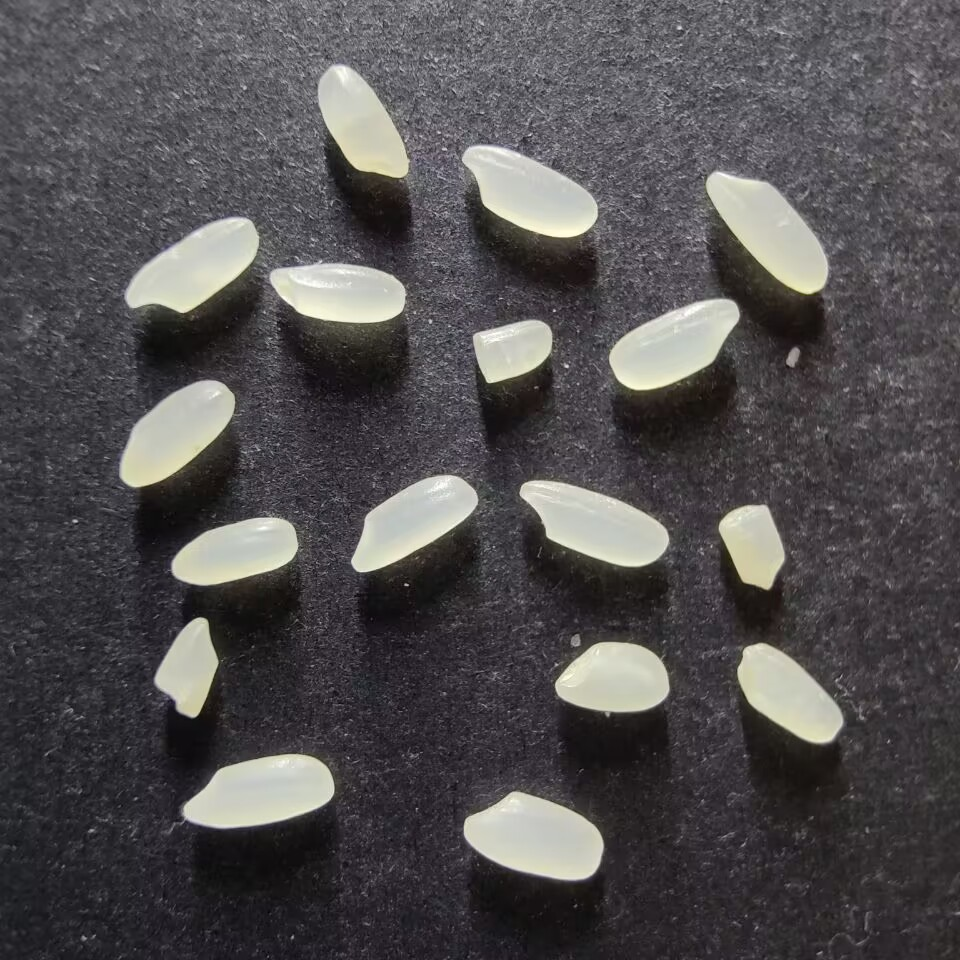broken: (153, 616, 218, 719), (718, 503, 785, 591), (470, 318, 553, 384)
rice: (704, 170, 829, 294), (123, 216, 259, 314), (519, 479, 668, 567), (117, 379, 236, 489), (461, 145, 599, 238), (351, 472, 478, 573), (462, 790, 603, 880), (608, 297, 740, 390), (181, 753, 335, 828), (736, 642, 845, 744), (316, 64, 410, 179), (170, 515, 297, 586), (553, 640, 670, 713), (268, 263, 405, 323)
